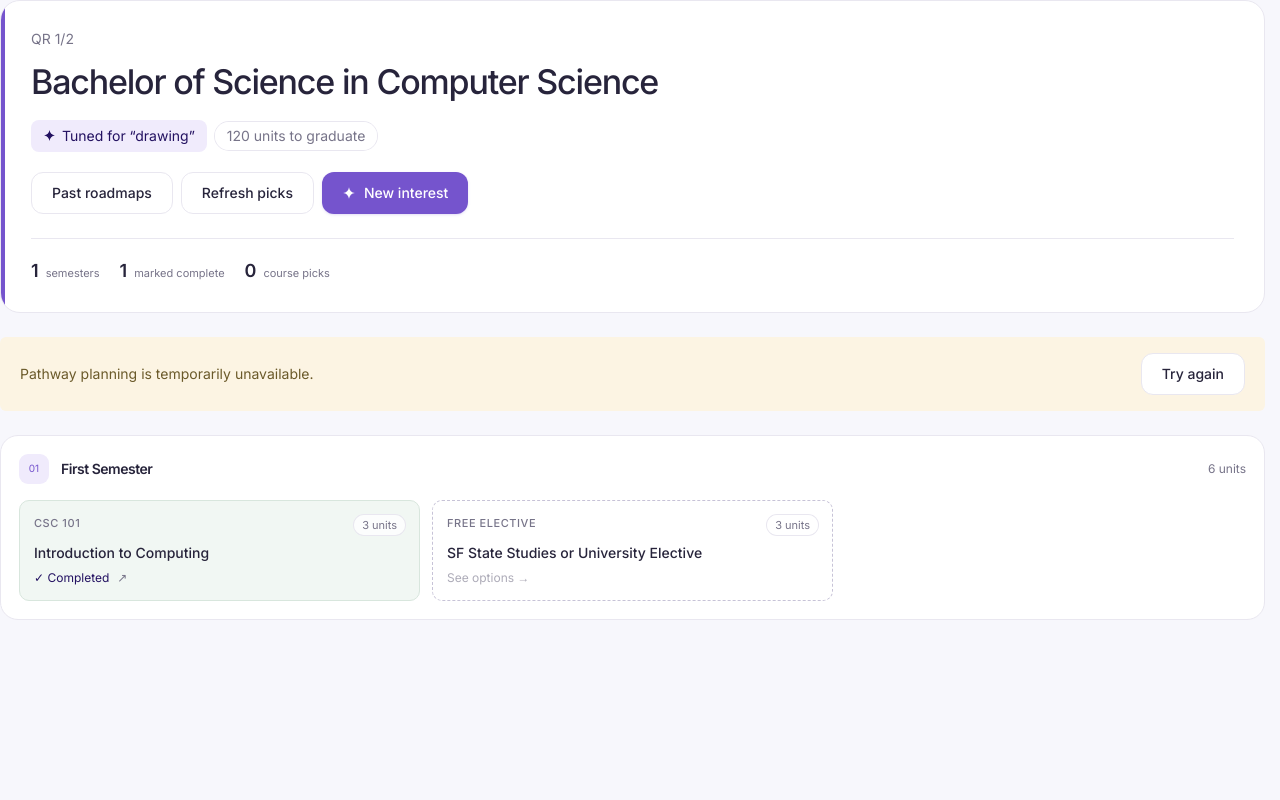
Scenario: keeps the baseline when personalising fails, and can try again
Expected: the message shows "temporarily unavailable", [20, 364, 314, 382]
Expected: the text "SF State Studies or University Elective" is shown, [447, 543, 702, 562]
Click the button "Try again" at {"x": 1193, "y": 374}, box [1141, 352, 1245, 394]
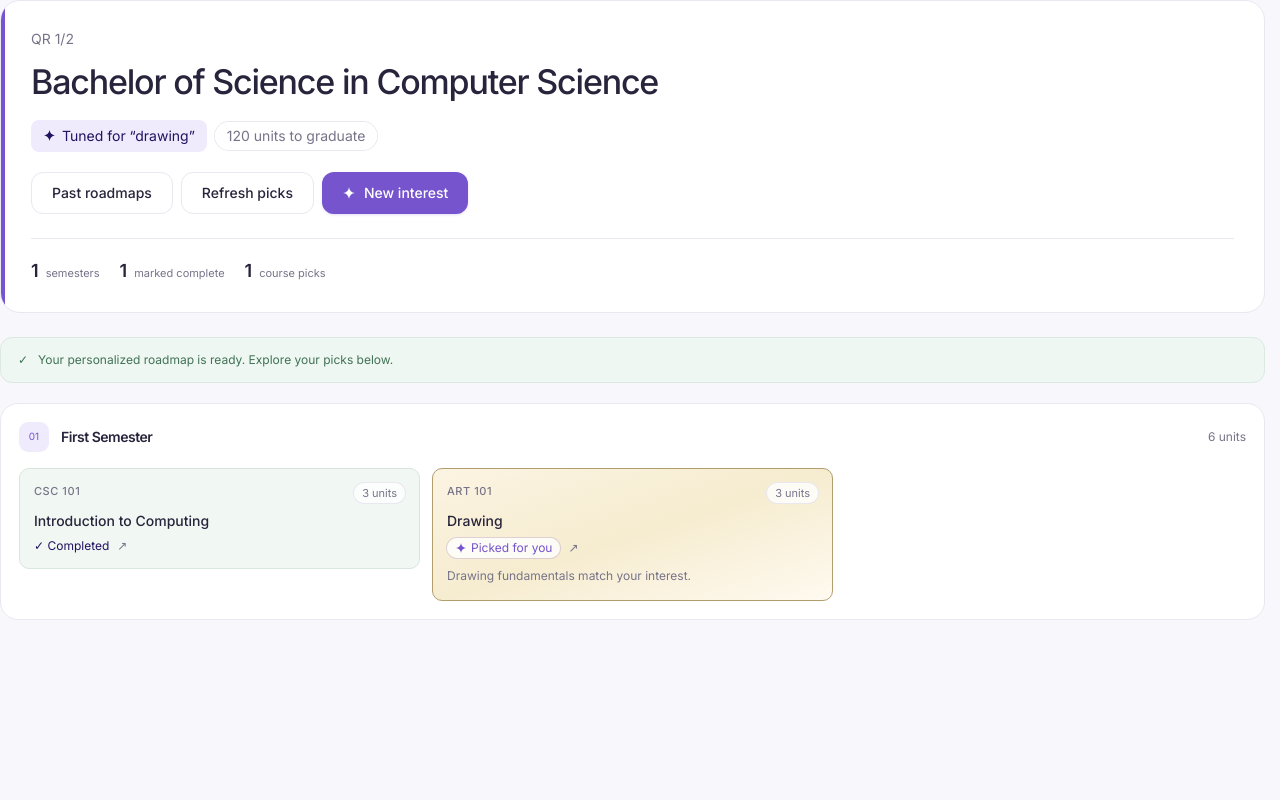
Result: the text "Drawing" is shown at [447, 511, 503, 530]
